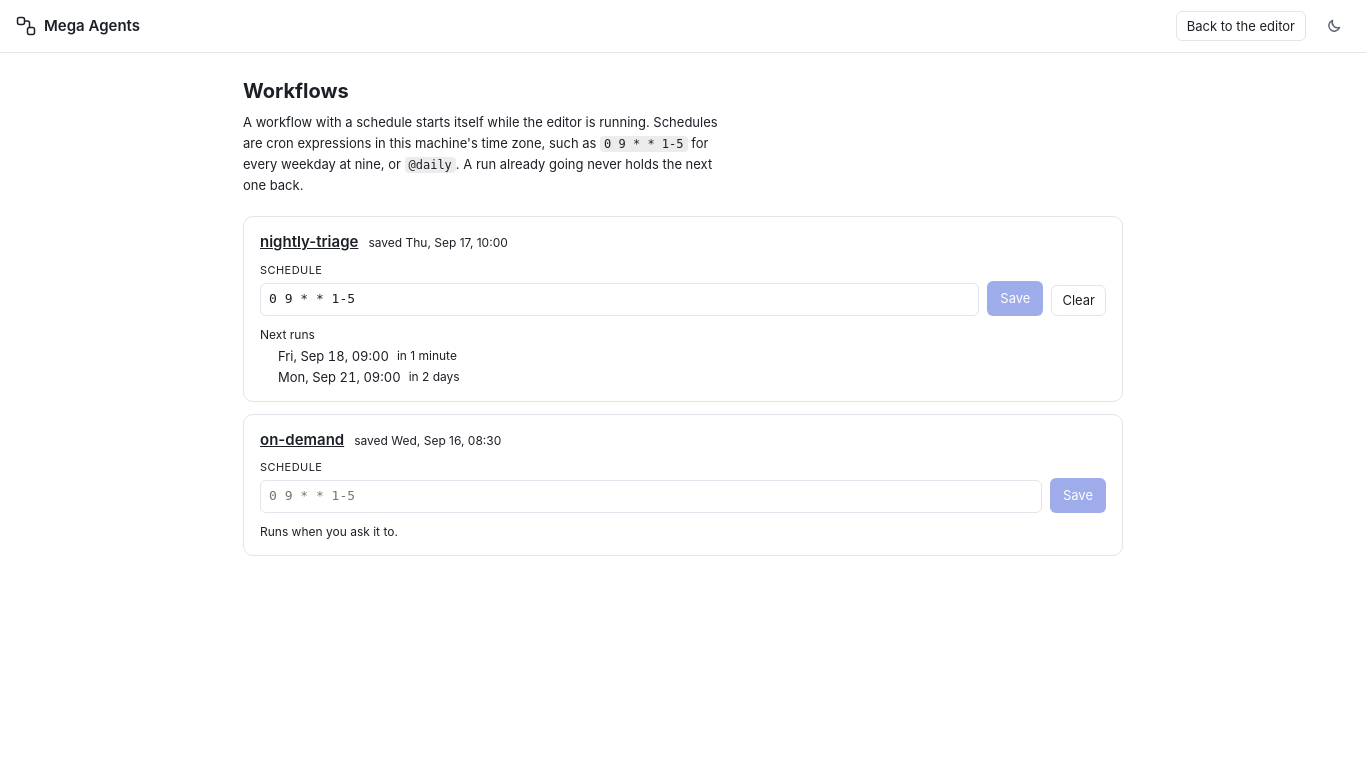
Scenario: the workflows page › a save the server refuses is reported and leaves the field alone
The image size is (1366, 768).
Expected: the link "on-demand" is shown, left=260, top=429, right=344, bottom=450
In the field named "Schedule for on-demand": (651, 497) left=260, top=480, right=1042, bottom=513, type "@daily"
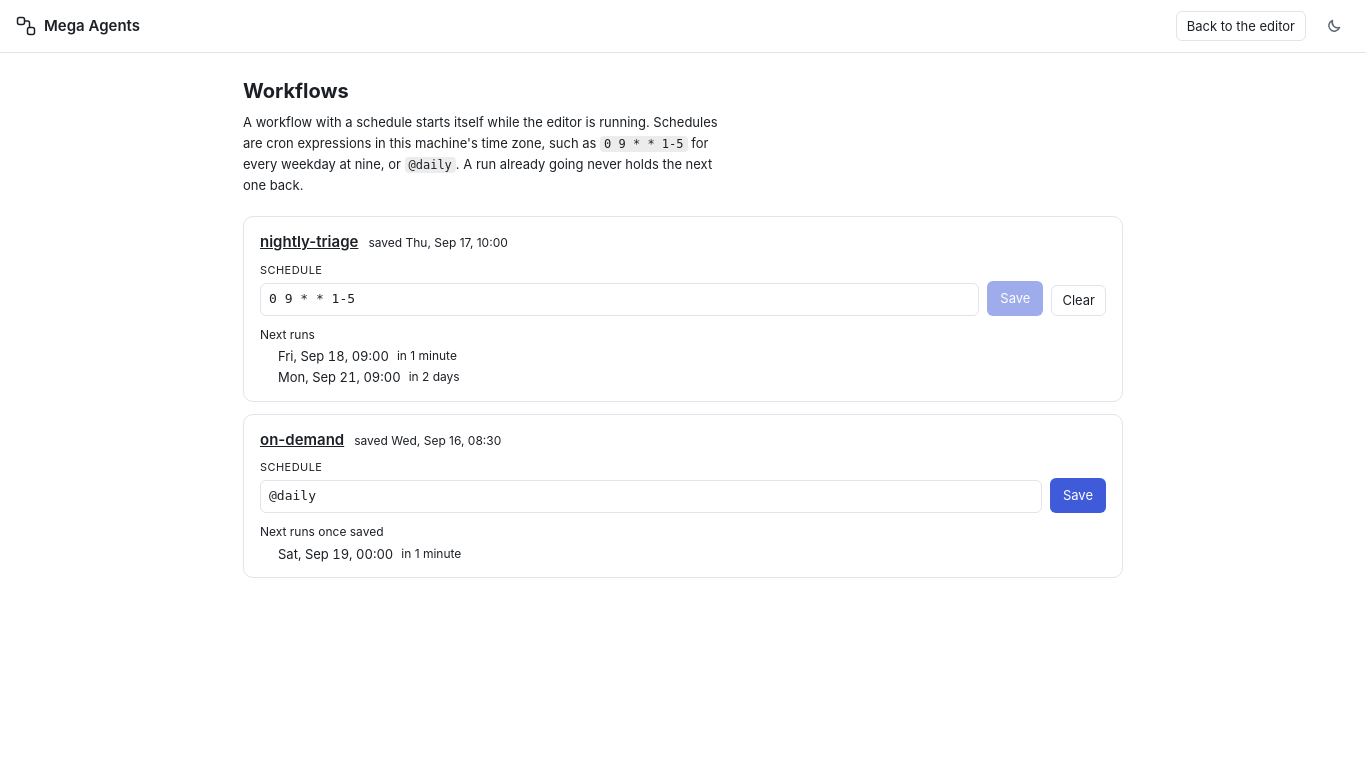
Expected: the button with aria-label "Save schedule for on-demand" is enabled
Click the button with aria-label "Save schedule for on-demand": (1078, 496) left=1050, top=478, right=1106, bottom=513
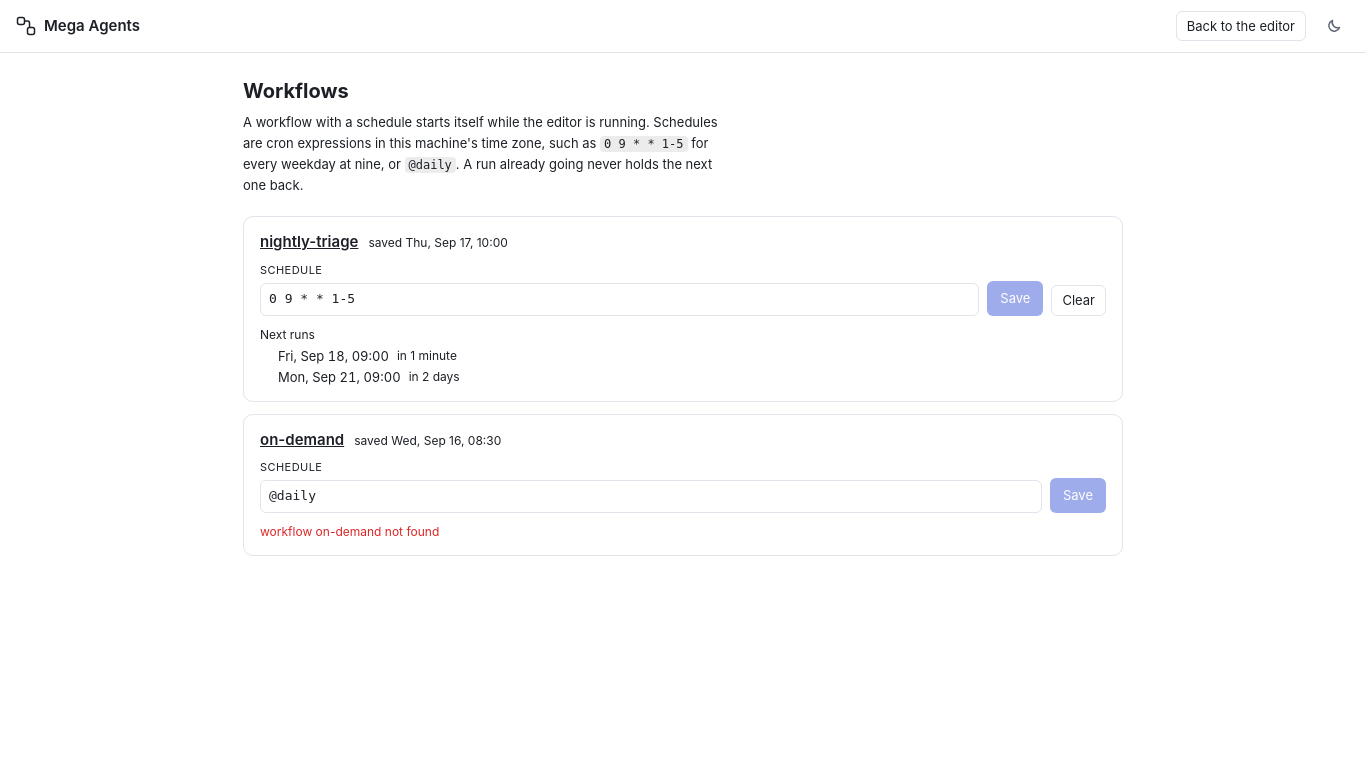
Expected: the text "workflow on-demand not found" is shown, left=260, top=524, right=439, bottom=539
